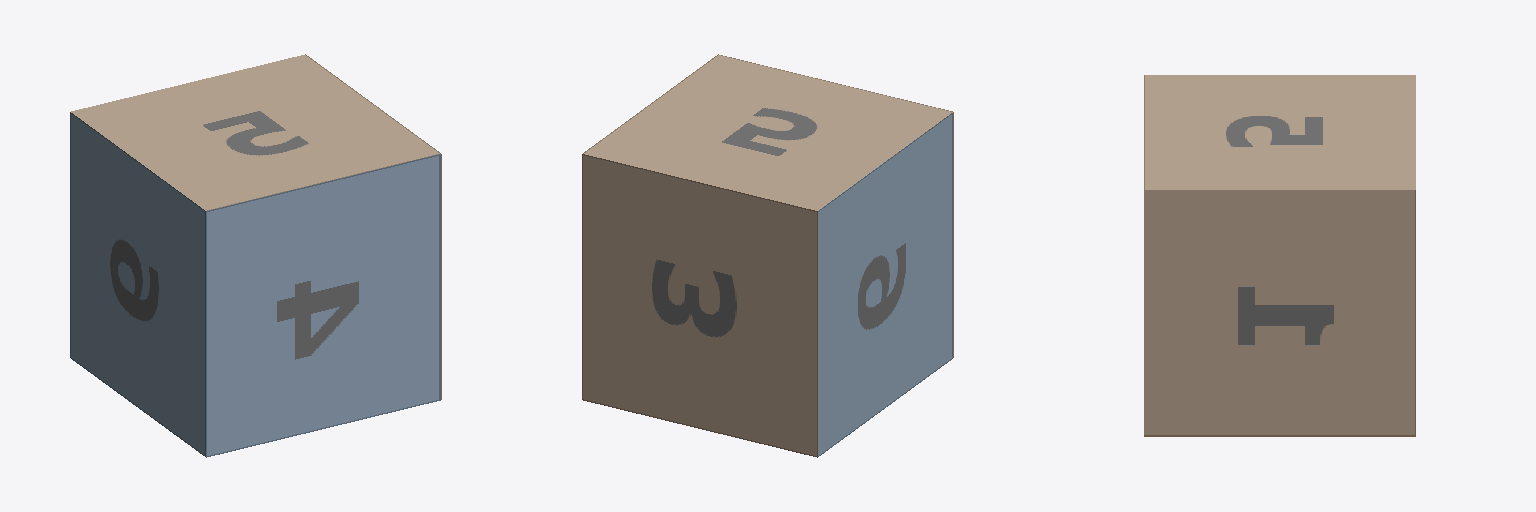
3 renders of one model, left to right at view 1: azimuth 30°, elevation 25°; view 2: azimuth 150°, elevation 25°; view 3: azimuth 270°, elevation 25°, orthographic.
Visible parts, largest first — view 1: Cube; view 2: Cube; view 3: Cube.
Boxes of the visible parts, <box> form: Cube: <box>70,54,441,457</box>; Cube: <box>582,54,953,457</box>; Cube: <box>1144,75,1415,436</box>.
Bounding box in the file's own units: 2 × 2 × 2.
1 materials, 1 textured.